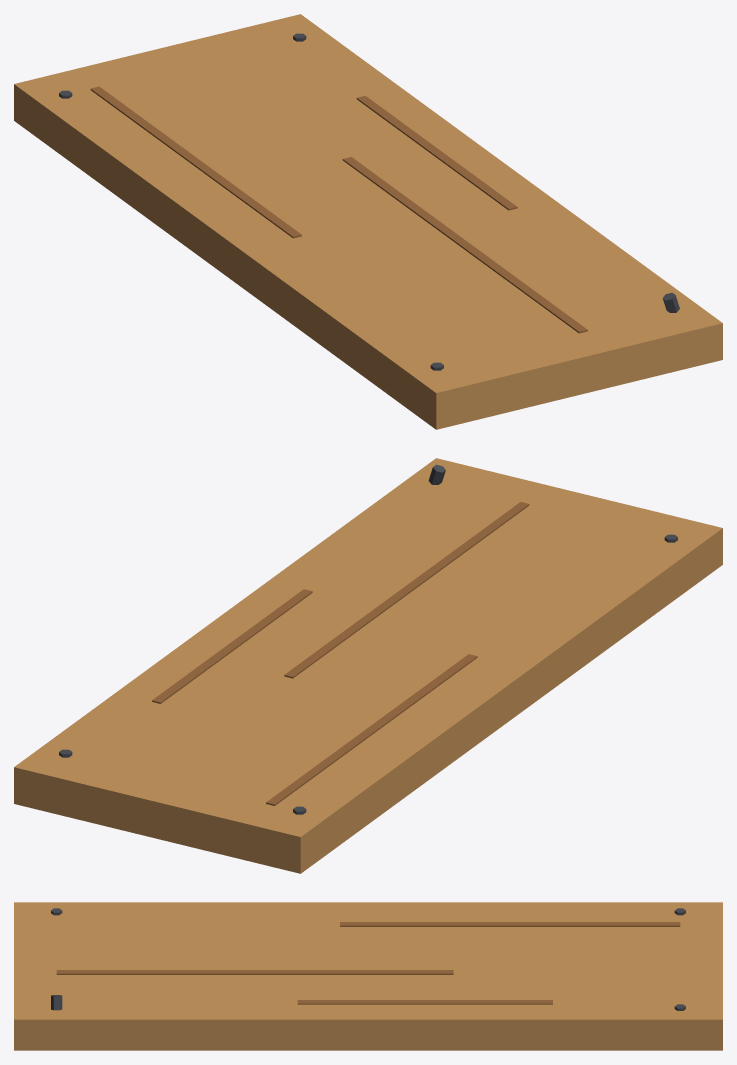
Rendered from bridge_plank.glb.
3 views of the same model, one above another, from view 1: azimuth 30°, elevation 25°; view 2: azimuth 150°, elevation 25°; view 3: azimuth 270°, elevation 25° (orthographic). The views are drawn at different scales.
Visible parts, largest first — view 1: plank_bridge_pine, grain_bridge_grain; view 2: plank_bridge_pine, grain_bridge_grain; view 3: plank_bridge_pine, grain_bridge_grain, nails_bridge_nail.
Boxes of the visible parts, x1,y1,x2,y2 form: plank_bridge_pine: [14, 14, 722, 429]; grain_bridge_grain: [90, 86, 587, 333]; plank_bridge_pine: [14, 458, 722, 873]; grain_bridge_grain: [152, 502, 529, 805]; plank_bridge_pine: [14, 902, 722, 1050]; grain_bridge_grain: [56, 922, 680, 1004]; nails_bridge_nail: [51, 908, 685, 1010].
Bounding box in the file's own units: 0.98 × 0.174 × 2.5.
